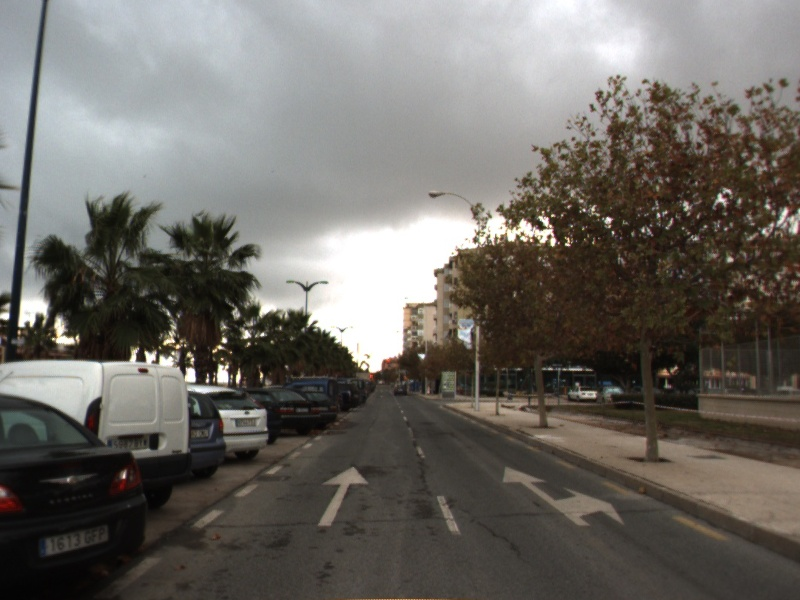STRAIGHT: (316, 464, 371, 528)
STRAIGHT_RIGHT: (501, 465, 626, 528)
